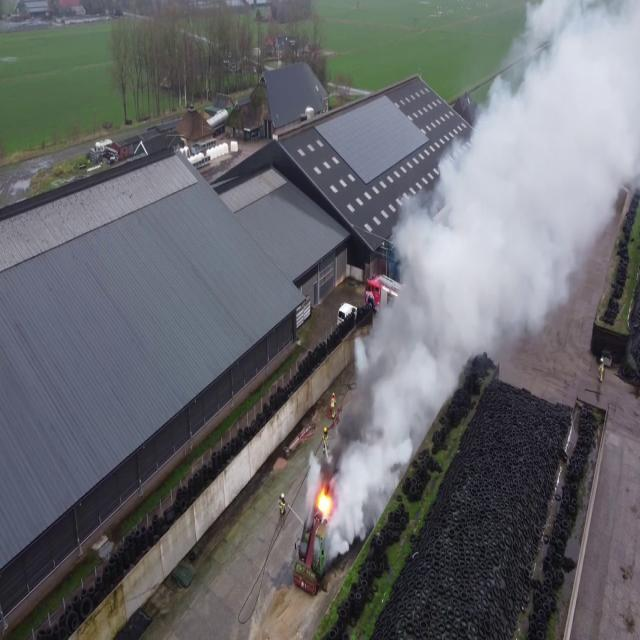Fire: (314, 478, 334, 524)
Smoke: (325, 1, 640, 540), (486, 0, 640, 355)
